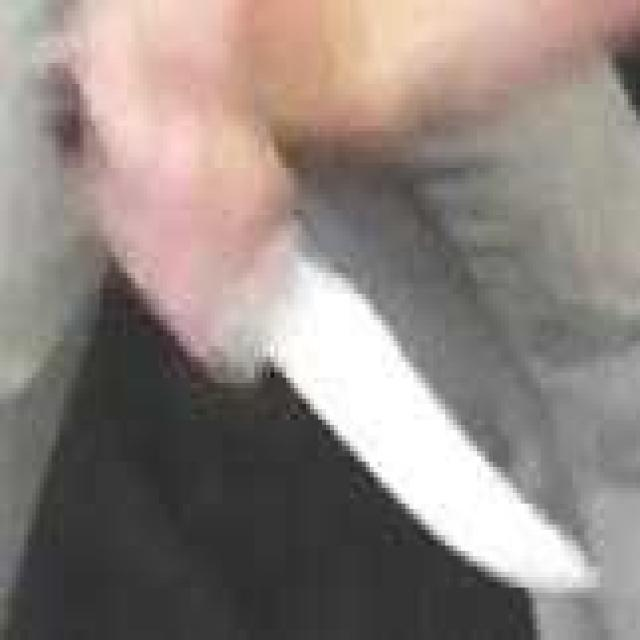knife: (135, 126, 640, 630)
